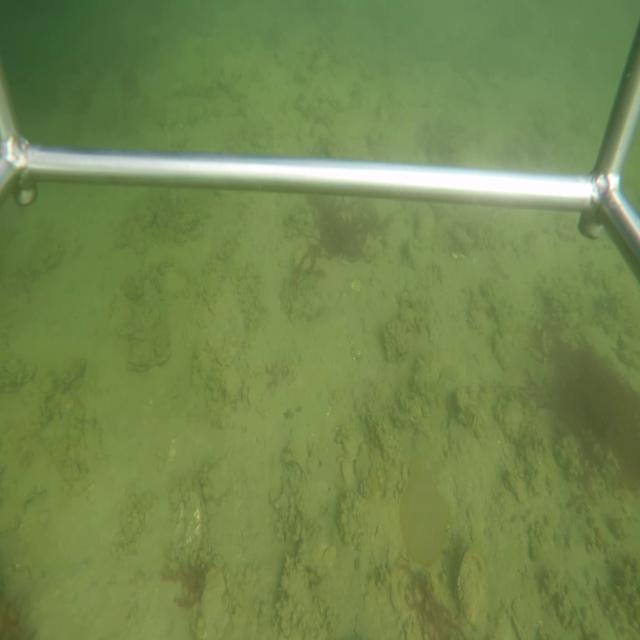Oyster-Closed: (451, 542, 489, 636)
